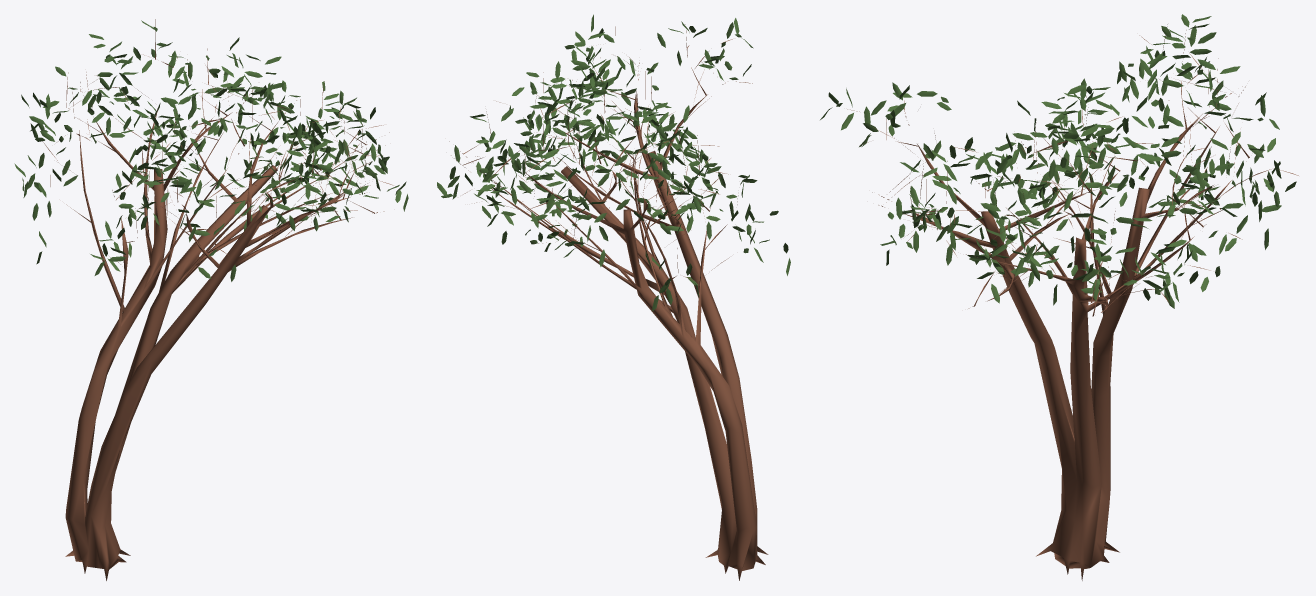
File: ArbousierCanopee_0_Niveau1.fbx
The picture shows the model from 3 angles, left to right: view 1: azimuth 30°, elevation 25°; view 2: azimuth 150°, elevation 25°; view 3: azimuth 270°, elevation 25°; orthographic projection. The views are drawn at different scales.
Parts seen in each view (by area): view 1: ArbousierCanopee_0_Niveau1; view 2: ArbousierCanopee_0_Niveau1; view 3: ArbousierCanopee_0_Niveau1.
Boxes of the visible parts, x1,y1,x2,y2 form: ArbousierCanopee_0_Niveau1: (14,19,408,580); ArbousierCanopee_0_Niveau1: (437,14,790,580); ArbousierCanopee_0_Niveau1: (820,14,1298,580).
Bounding box in the file's own units: 256 × 335 × 255.
